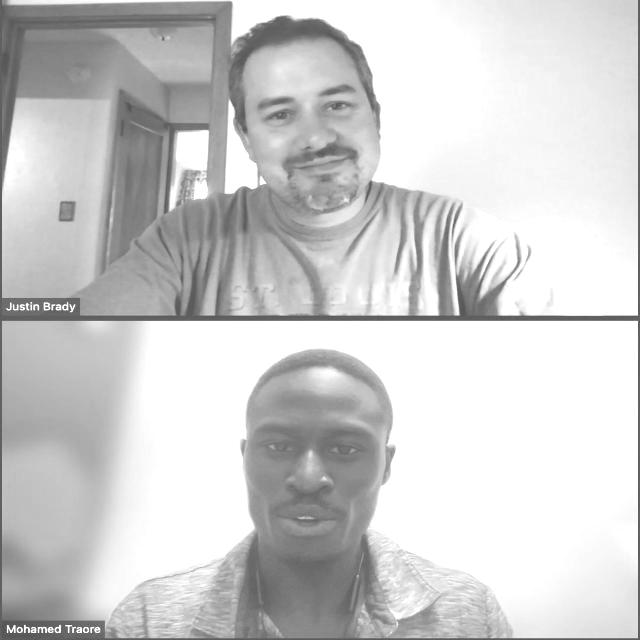real: (240, 362, 398, 567), (228, 38, 382, 212)
